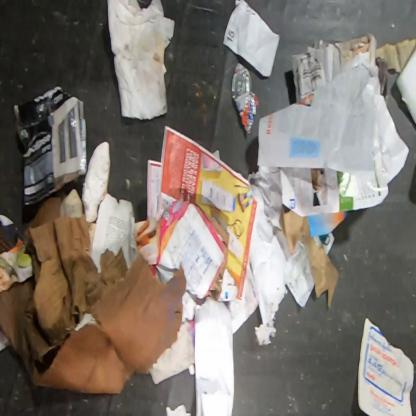cardboard: (27, 215, 128, 345), (14, 86, 88, 208), (0, 232, 15, 257)
metal: (231, 62, 260, 135)
